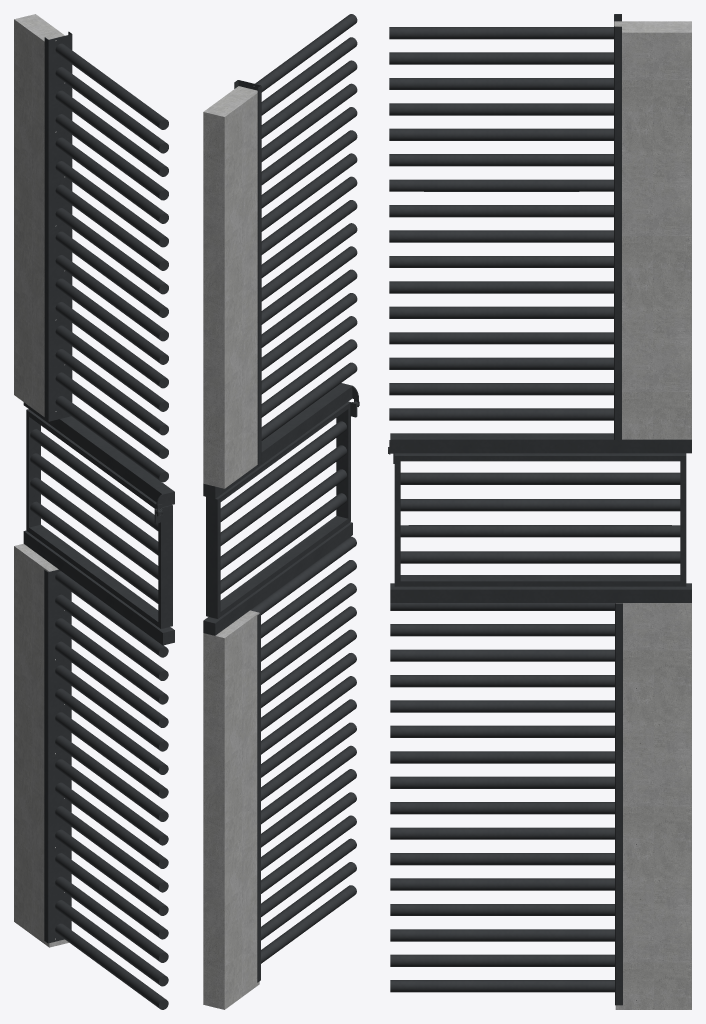
Rendered from puerta-zona-generador-mwvotkdj.glb.
3 views of the same model, side by side, from view 1: azimuth 30°, elevation 25°; view 2: azimuth 150°, elevation 25°; view 3: azimuth 270°, elevation 25° (orthographic). The views are drawn at different scales.
Visible parts, largest first — view 1: Cuerpo1_(1), Body2, Body1, Cuerpo1_(1)_(1), bisagra_(1)_(1), Body31, Body30, Cuerpo1_(1)_(1)_(2)_(1)_(3), Cuerpo1_(1)_(1)_(2)_(1)_(2), Cuerpo1_(1)_(1)_(2)_(1)_(4), Cuerpo1_(1)_(1)_(2)_(1)_(1), Cuerpo1_(1)_(1)_(1) (+15 smaller); view 2: Cuerpo1_(1), Body2, Body1, bisagra_(1)_(1), Body31, Body30, Cuerpo1_(1)_(1), Cuerpo1_(1)_(1)_(2)_(1)_(1), Cuerpo1_(1)_(1)_(2)_(1)_(2), Cuerpo1_(1)_(1)_(2)_(1)_(3), Cuerpo1_(1)_(1)_(2)_(1)_(4), Cuerpo1_(1)_(1)_(16) (+15 smaller); view 3: Cuerpo1_(1), Body2, Body1, bisagra_(1)_(1), Body31, Body30, Cuerpo1_(1)_(1)_(2)_(1)_(4), Cuerpo1_(1)_(1)_(2)_(1)_(1), Cuerpo1_(1)_(1)_(2)_(1)_(2), Cuerpo1_(1)_(1)_(2)_(1)_(3), Cuerpo1_(1)_(1), Cuerpo1_(1)_(1)_(1) (+15 smaller).
Boxes of the visible parts, x1,y1,x2,y2 form: Cuerpo1_(1): (44,569,168,1009); Body2: (14,14,64,416); Body1: (14,543,68,947); Cuerpo1_(1)_(1): (44,31,72,421); bisagra_(1)_(1): (26,409,172,628); Body31: (23,402,174,507); Body30: (23,530,174,645); Cuerpo1_(1)_(1)_(2)_(1)_(3): (30,477,158,579); Cuerpo1_(1)_(1)_(2)_(1)_(2): (30,453,158,555); Cuerpo1_(1)_(1)_(2)_(1)_(4): (30,501,158,603); Cuerpo1_(1)_(1)_(2)_(1)_(1): (30,429,158,530); Cuerpo1_(1)_(1)_(1): (55,67,168,153); Cuerpo1_(1): (250,536,356,982); Body2: (203,86,257,488); Body1: (203,610,259,1009); bisagra_(1)_(1): (206,401,358,618); Body31: (203,383,358,498); Body30: (203,522,352,635); Cuerpo1_(1)_(1): (234,80,261,465); Cuerpo1_(1)_(1)_(2)_(1)_(1): (220,421,346,521); Cuerpo1_(1)_(1)_(2)_(1)_(2): (220,445,346,545); Cuerpo1_(1)_(1)_(2)_(1)_(3): (220,469,346,569); Cuerpo1_(1)_(1)_(2)_(1)_(4): (220,493,346,593); Cuerpo1_(1)_(1)_(16): (254,14,357,92); Cuerpo1_(1): (390,603,622,1005); Body2: (614,21,691,439); Body1: (615,603,691,1009); bisagra_(1)_(1): (390,453,686,586); Body31: (390,433,691,453); Body30: (390,583,691,602); Cuerpo1_(1)_(1)_(2)_(1)_(4): (400,551,680,563); Cuerpo1_(1)_(1)_(2)_(1)_(1): (400,472,680,484); Cuerpo1_(1)_(1)_(2)_(1)_(2): (400,499,680,511); Cuerpo1_(1)_(1)_(2)_(1)_(3): (400,525,680,537); Cuerpo1_(1)_(1): (614,14,621,439); Cuerpo1_(1)_(1)_(1): (389,52,613,64).
Size of the model in its own units: 0.202 by 7.25 by 2.03.
2 materials, 2 textured.
